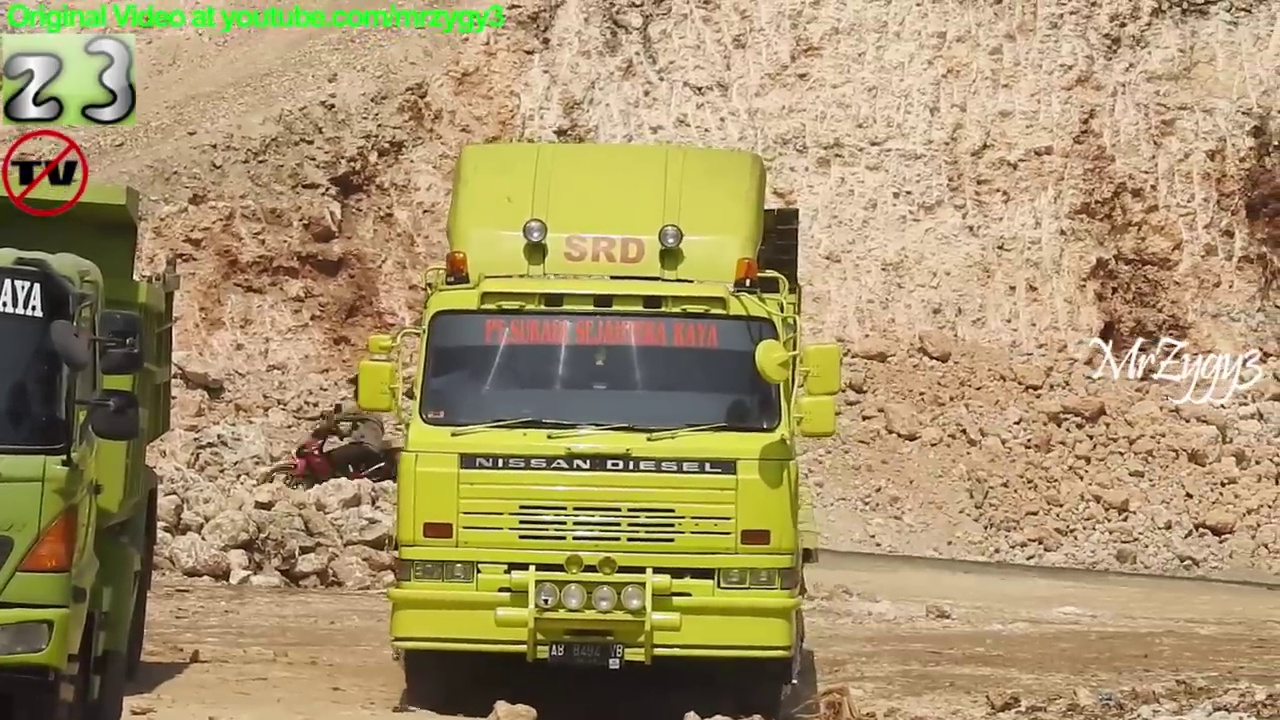truck: (353, 138, 853, 720), (1, 151, 188, 720)
